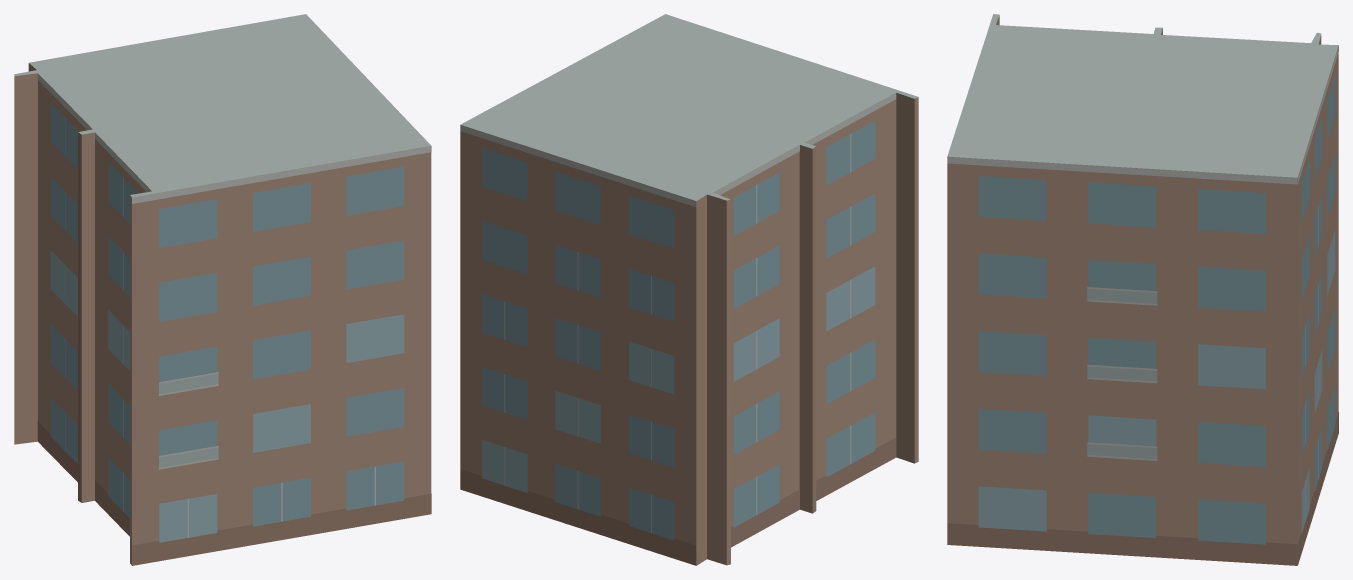
Rendered from survey-upis-32471293.glb.
3 renders of one model, left to right at view 1: azimuth 30°, elevation 25°; view 2: azimuth 150°, elevation 25°; view 3: azimuth 270°, elevation 25°, orthographic. The views are drawn at different scales.
Parts seen in each view (by area): view 1: survey-upis-32471293.tmp; view 2: survey-upis-32471293.tmp; view 3: survey-upis-32471293.tmp.
Boxes of the visible parts, bbox=[...] form: survey-upis-32471293.tmp: bbox=[14, 14, 431, 565]; survey-upis-32471293.tmp: bbox=[460, 14, 918, 565]; survey-upis-32471293.tmp: bbox=[947, 14, 1338, 565].
Bounding box in the file's own units: 12.58 × 13.9 × 12.72.
